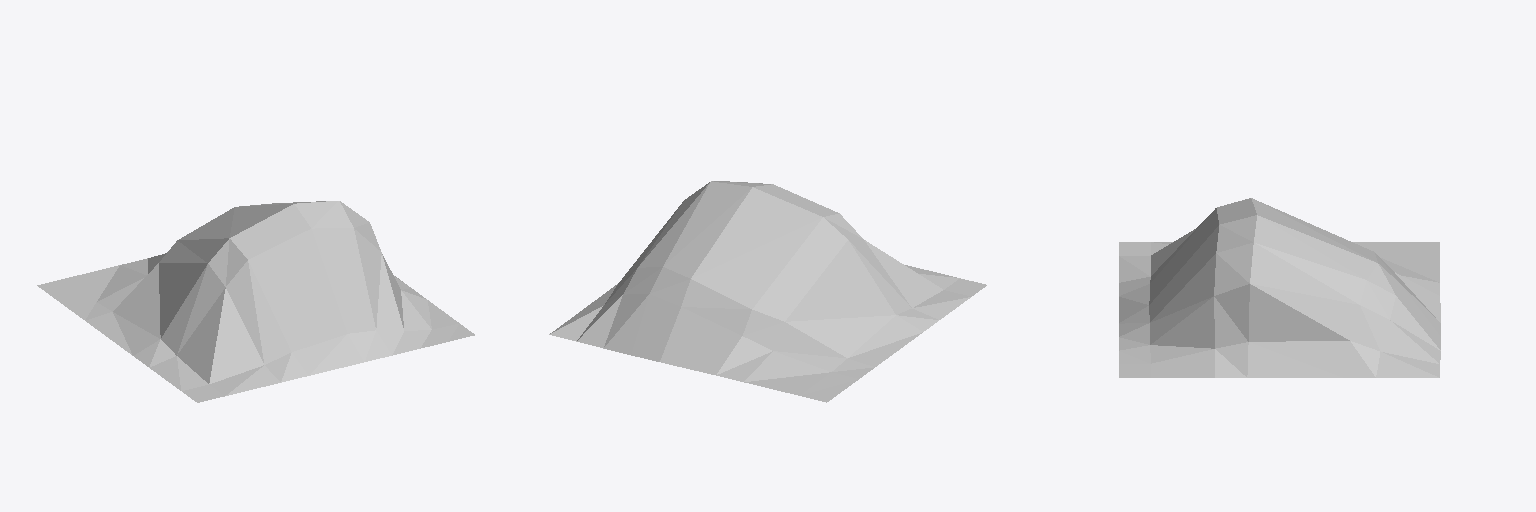
Rendered from MODEL_dirtMedium_1.obj.
3 views of the same model, side by side, from view 1: azimuth 30°, elevation 25°; view 2: azimuth 150°, elevation 25°; view 3: azimuth 270°, elevation 25° (orthographic).
Visible parts, largest first — view 1: dirt_mid dirt; view 2: dirt_mid dirt; view 3: dirt_mid dirt.
Part boxes in pixels (left/top/right/bottom): dirt_mid dirt: left=37, top=201, right=474, bottom=402; dirt_mid dirt: left=549, top=181, right=986, bottom=402; dirt_mid dirt: left=1119, top=198, right=1440, bottom=377.
Bounding box in the file's own units: 42.45 × 15.75 × 42.62.